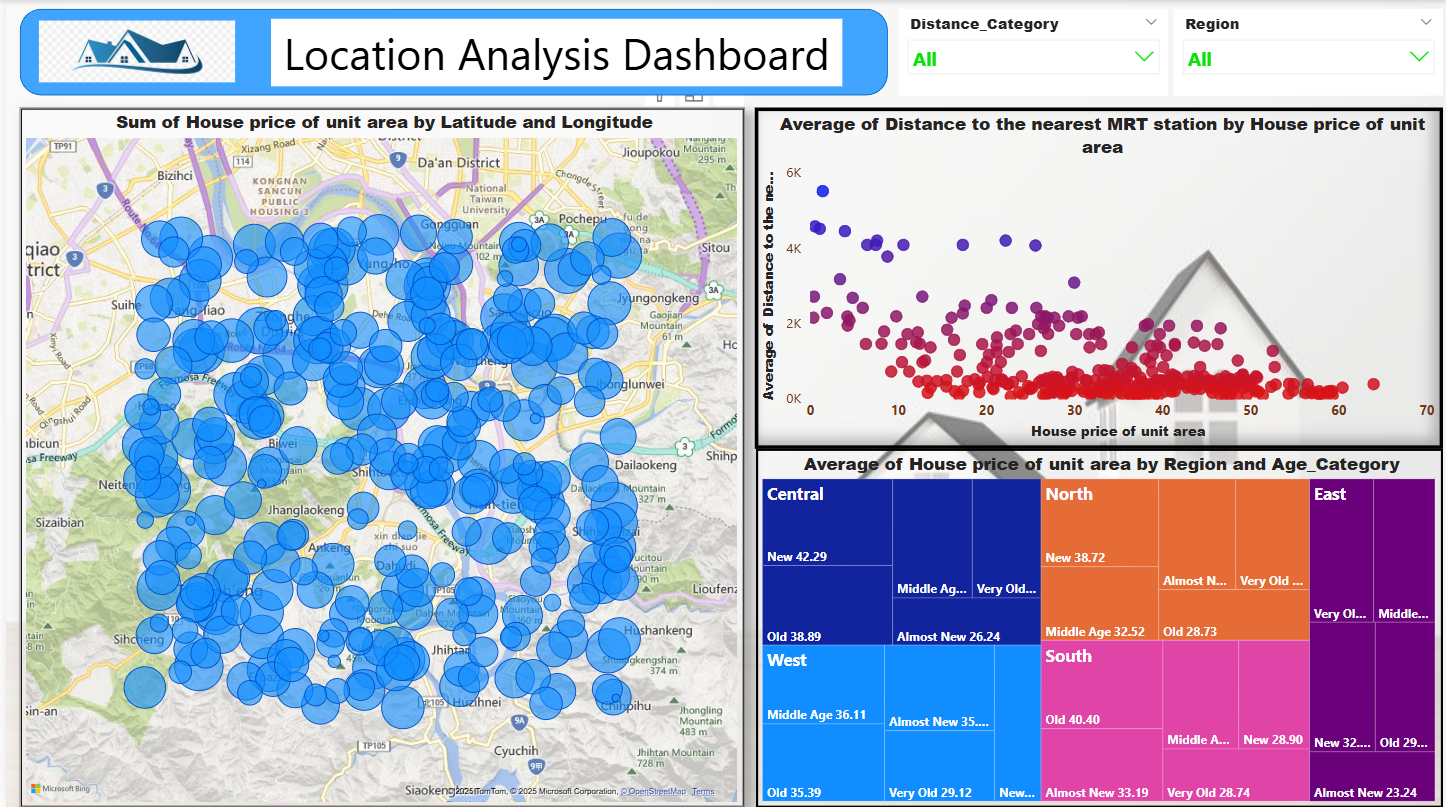

Layout of this report page (visuals, bound fields, positions):
{"tool":"powerbi","page":{"name":"Page 2","canvas":[1600,900],"ordinal":1},"visuals":[{"type":"map","fields":{"Y":["cleaned_real_estate_data.Latitude"],"X":["cleaned_real_estate_data.Longitude"],"Size":["Sum(cleaned_real_estate_data.House price of unit area)"]},"box":[15.1,119.1,806.8,781.2],"z":0},{"type":"scatterChart","fields":{"Y":["Avg(cleaned_real_estate_data.Distance to the nearest MRT station)"],"X":["cleaned_real_estate_data.House price of unit area"]},"box":[834,119.1,766.1,380],"z":1000},{"type":"treemap","fields":{"Values":["Avg(cleaned_real_estate_data.House price of unit area)"],"Group":["cleaned_real_estate_data.Region"],"Details":["cleaned_real_estate_data.Age_Category"]},"box":[835.5,499.2,764.6,401.1],"z":2000},{"type":"shape","box":[15.1,9,966.7,96.5],"z":3000},{"type":"textbox","box":[295.6,21.1,636.4,75.4],"z":4000},{"type":"image","box":[27.1,18.1,235.3,78.4],"z":5000},{"type":"slicer","fields":{"Values":["cleaned_real_estate_data.Distance_Category"]},"box":[993.8,9,300.1,96.5],"z":6000},{"type":"slicer","fields":{"Values":["cleaned_real_estate_data.Region"]},"box":[1299.9,9,300.1,96.5],"z":7000}]}

Visuals, with their boxes in screenshot pixels (x1, y1, x2, y2), scaled from the page's 1600x900 canvas onto the 1446x807 screenshot:
map - cleaned_real_estate_data.Latitude x cleaned_real_estate_data.Longitude: [14, 107, 743, 806]
scatterChart - Avg(cleaned_real_estate_data.Distance to the nearest MRT station) x cleaned_real_estate_data.House price of unit area: [754, 107, 1445, 448]
treemap - Avg(cleaned_real_estate_data.House price of unit area) x cleaned_real_estate_data.Region: [755, 448, 1445, 806]
shape: [14, 8, 887, 95]
textbox: [267, 19, 842, 87]
image: [24, 16, 237, 87]
slicer - cleaned_real_estate_data.Distance_Category: [898, 8, 1169, 95]
slicer - cleaned_real_estate_data.Region: [1175, 8, 1445, 95]
